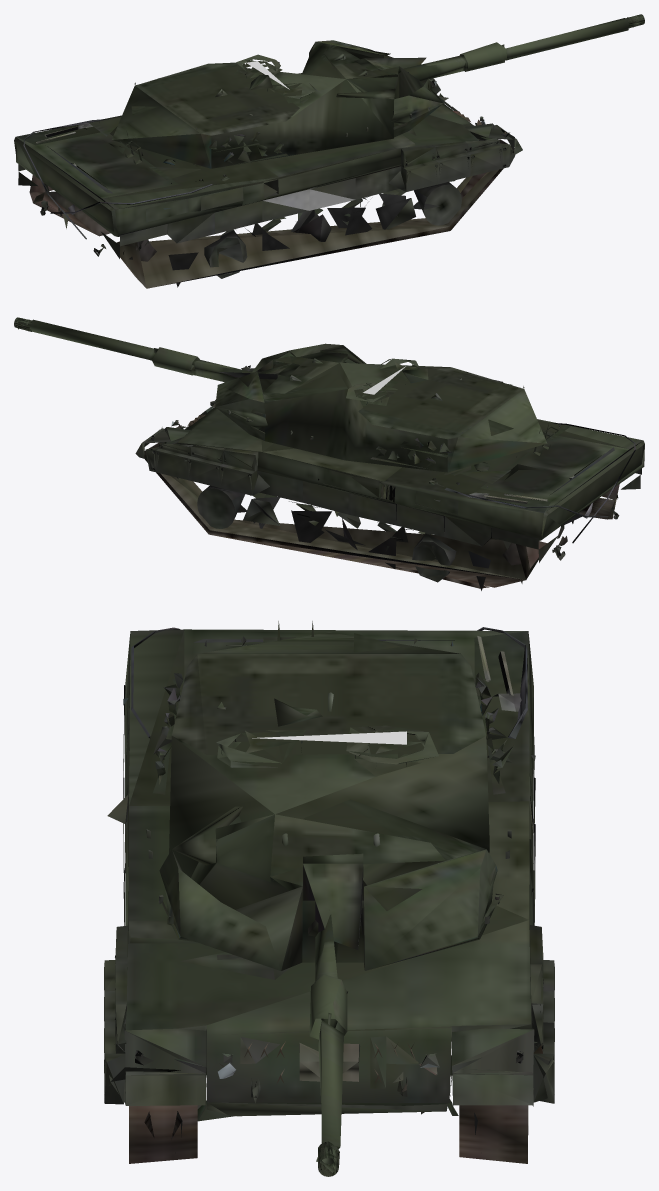
File: leo_lo.glb
The picture shows the model from 3 angles, top to bottom: view 1: azimuth 30°, elevation 25°; view 2: azimuth 150°, elevation 25°; view 3: azimuth 270°, elevation 25°; orthographic projection. The views are drawn at different scales.
Visible parts, largest first — view 1: g_leo_hull, g_leo_turret, g_leo_gun; view 2: g_leo_hull, g_leo_turret, g_leo_gun; view 3: g_leo_hull, g_leo_turret, g_leo_gun.
Part boxes in pixels (bbox=[...]): g_leo_hull: bbox=[14, 73, 522, 288]; g_leo_turret: bbox=[78, 40, 443, 183]; g_leo_gun: bbox=[353, 14, 644, 81]; g_leo_hull: bbox=[135, 365, 644, 590]; g_leo_turret: bbox=[215, 343, 570, 498]; g_leo_gun: bbox=[14, 317, 289, 382]; g_leo_hull: bbox=[104, 627, 554, 1163]; g_leo_turret: bbox=[146, 621, 521, 970]; g_leo_gun: bbox=[308, 910, 347, 1176].
Bounding box in the file's own units: 10.96 × 2.83 × 3.68.
Materials: 4 (3 with a texture image).
